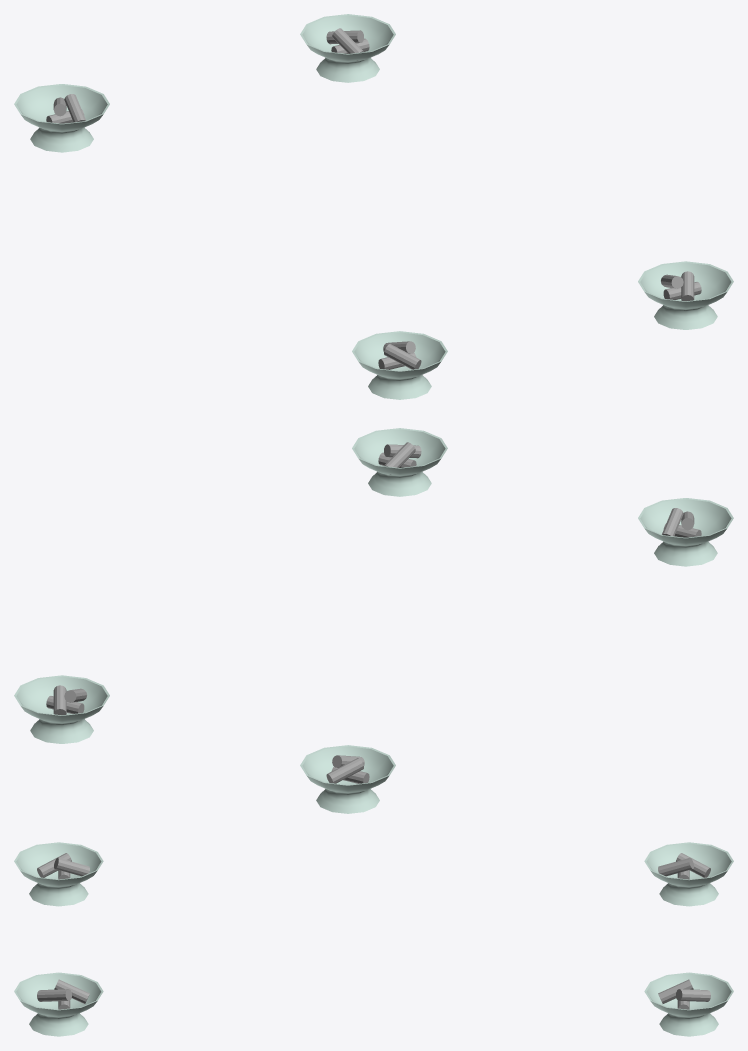
The model's file is fbx_braziers_temple.fbx.
3 renders of one model, top to bottom at view 1: azimuth 30°, elevation 25°; view 2: azimuth 150°, elevation 25°; view 3: azimuth 270°, elevation 25°, orthographic. The views are drawn at different scales.
Parts seen in each view (by area): view 1: msh_brazier_04, msh_brazier_01, msh_brazier_02, msh_brazier_03; view 2: msh_brazier_02, msh_brazier_03, msh_brazier_04, msh_brazier_01; view 3: msh_brazier_01, msh_brazier_02, msh_brazier_03, msh_brazier_04.
Boxes of the visible parts, x1,y1,x2,y2 form: msh_brazier_04: (300,14,395,82); msh_brazier_01: (352,331,447,399); msh_brazier_02: (638,261,733,329); msh_brazier_03: (14,84,109,152); msh_brazier_02: (352,428,447,496); msh_brazier_03: (300,745,395,813); msh_brazier_04: (14,675,109,743); msh_brazier_01: (638,498,733,566); msh_brazier_01: (14,842,103,906); msh_brazier_02: (14,972,103,1036); msh_brazier_03: (644,842,733,906); msh_brazier_04: (644,972,733,1036).
Bounding box in the file's own units: 627 × 69.48 × 1135.
